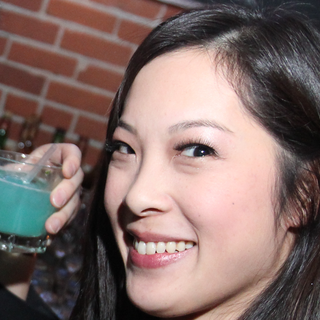eye: (173, 139, 221, 165), (104, 136, 140, 164)
